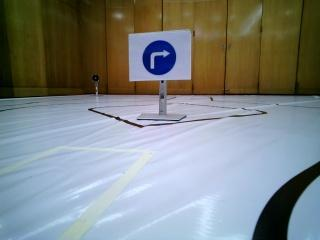right: (127, 30, 191, 78)
